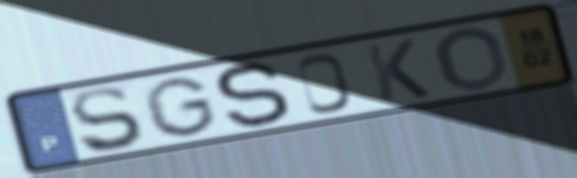0: (295, 51, 355, 117)
G: (139, 74, 221, 139)
K: (361, 36, 434, 105)
O: (434, 25, 512, 94)
S: (211, 59, 295, 133), (66, 84, 148, 156)
